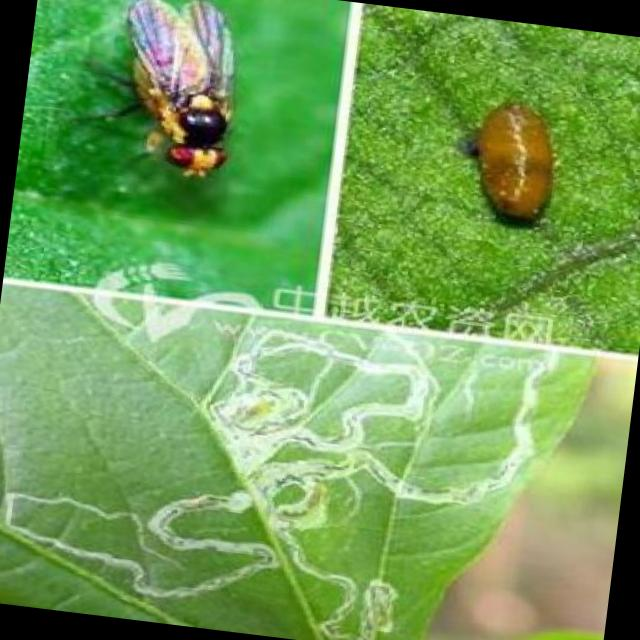whorl-maggot: (452, 82, 572, 238)
